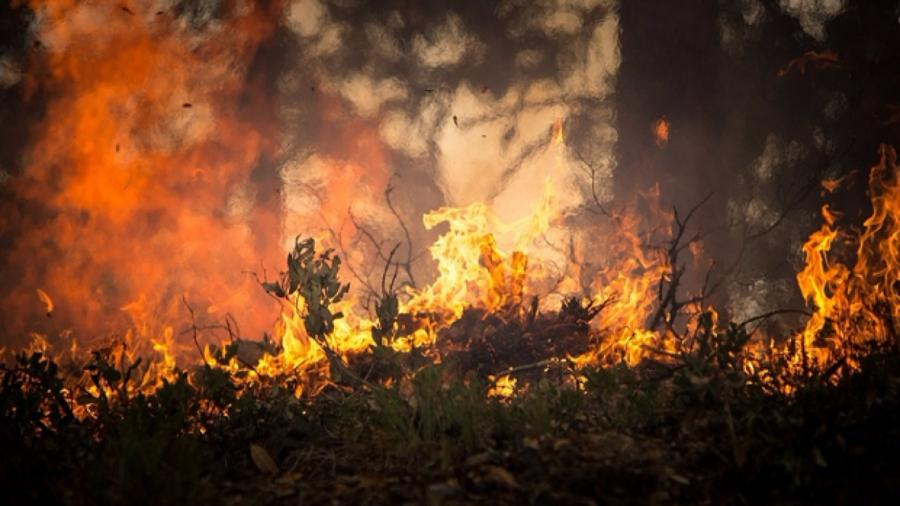fire: (0, 9, 268, 455), (328, 125, 679, 452), (740, 125, 900, 449)
